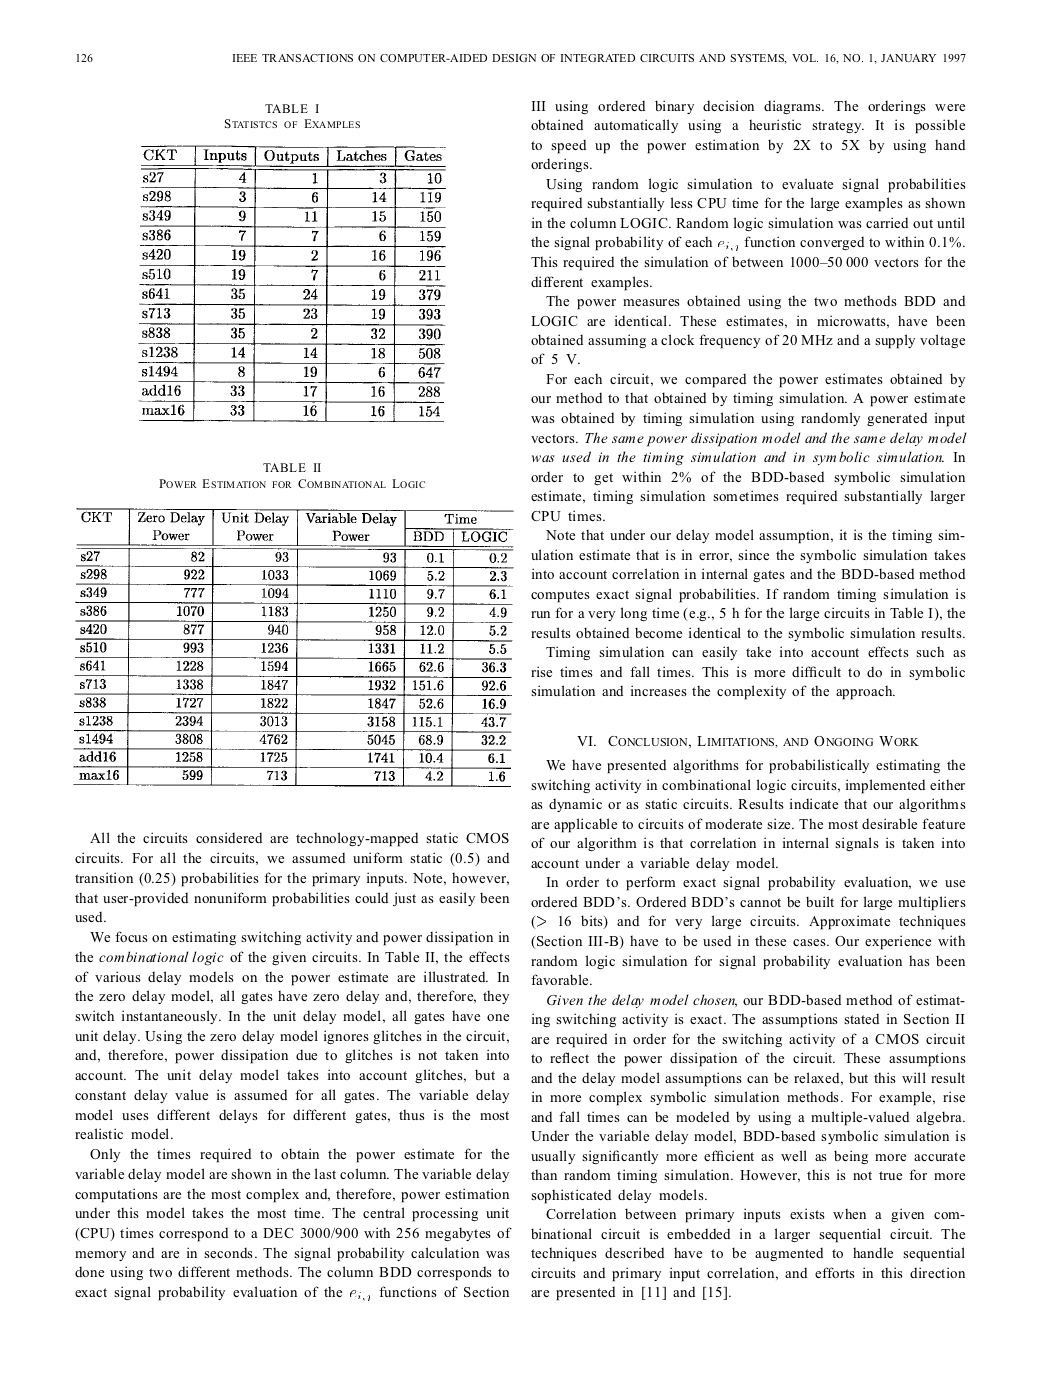Table: (74, 507, 513, 787), (138, 144, 445, 422)
